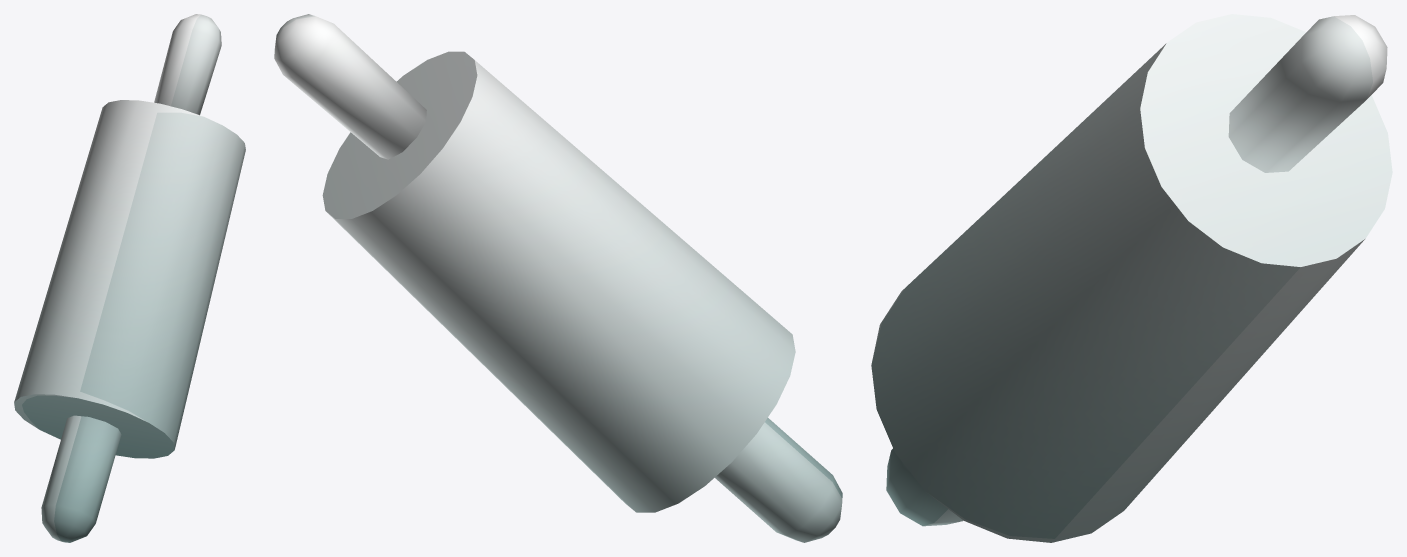
Rendered from Diligence_RollingPin.fbx.
3 renders of one model, left to right at view 1: azimuth 30°, elevation 25°; view 2: azimuth 150°, elevation 25°; view 3: azimuth 270°, elevation 25°, orthographic. The views are drawn at different scales.
Visible parts, largest first — view 1: Diligence_RollingPin; view 2: Diligence_RollingPin; view 3: Diligence_RollingPin.
Boxes of the visible parts, bbox=[...] form: Diligence_RollingPin: bbox=[14, 14, 245, 542]; Diligence_RollingPin: bbox=[274, 14, 842, 542]; Diligence_RollingPin: bbox=[871, 14, 1392, 542].
Size of the model in its own units: 13.7 by 17.9 by 11.76.
